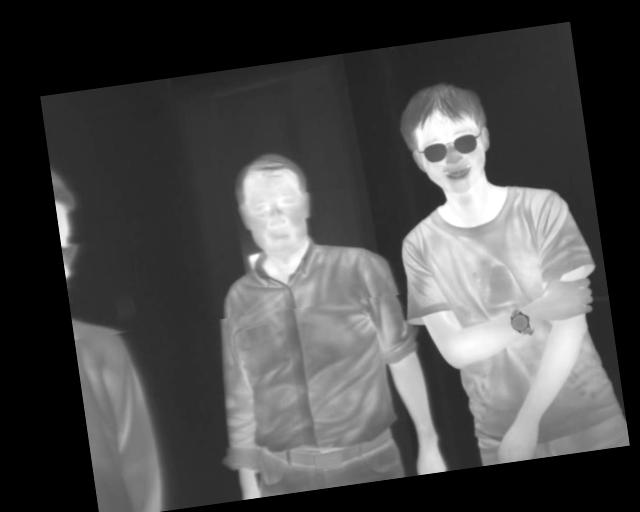face: (396, 76, 497, 202), (230, 147, 318, 263)
